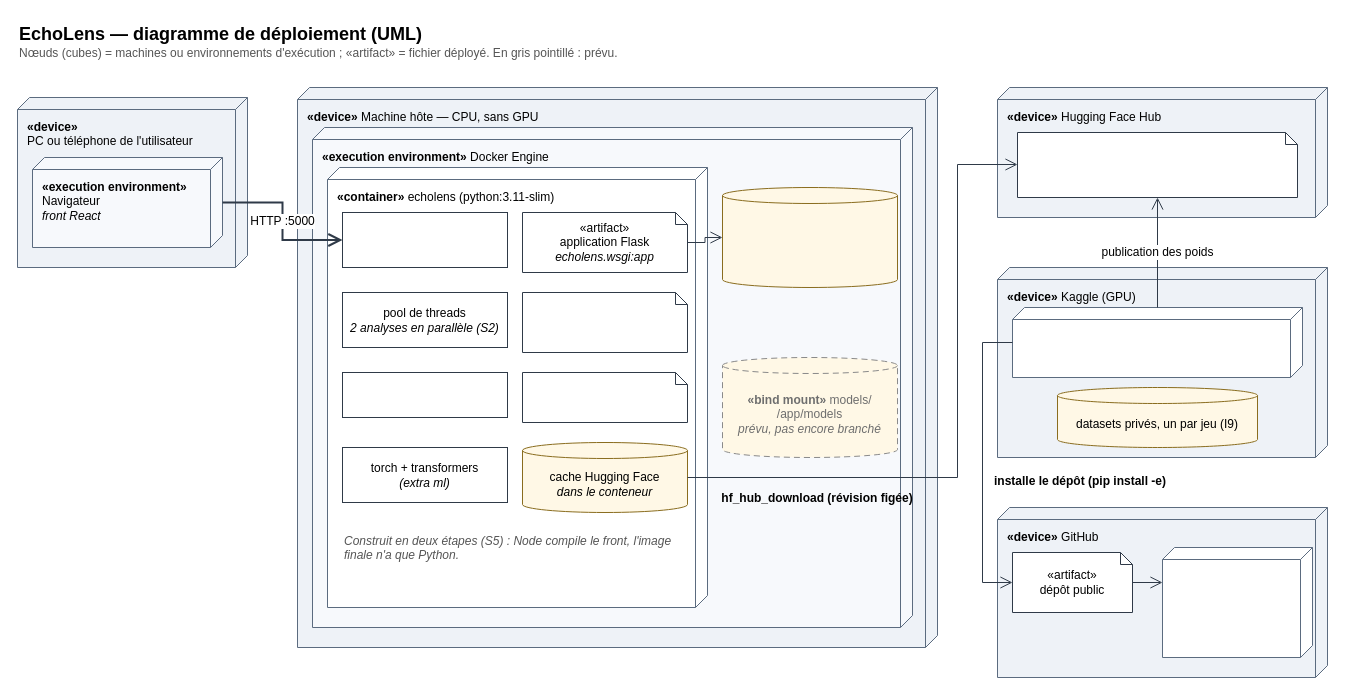
This 1345x695 diagram has some shape labels left out. The shapes that lost their labels are listed below. From the top down, each one's centre as x and y in pixels, then its label:
At point 1157,165: "«artifact» 3 modèles : model.safetensors + config.json (I7)".
At point 425,240: "Gunicorn 1 worker, 8 threads (gthread)".
At point 810,237: "«volume» echolens-var /app/var SQLite, audios, résultats".
At point 605,322: "«artifact» web/dist front compilé".
At point 1157,342: "«execution environment» notebooks d'entraînement".
At point 425,395: "ffmpeg".
At point 605,397: "«artifact» configs/*.yaml".
At point 1237,602: "«execution environment» GitHub Actions vérifie chaque PR".
